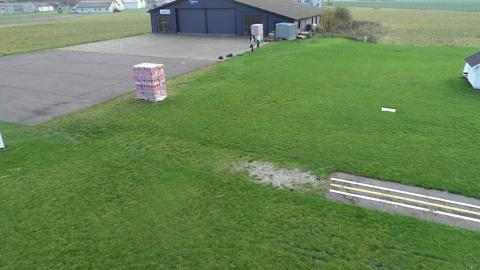RockwoolPallet: (132, 62, 169, 104)
